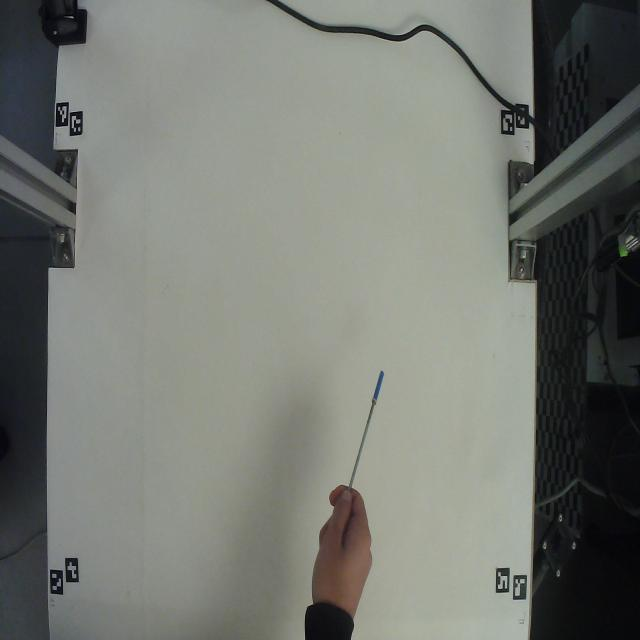NoPres: (339, 330, 411, 507)
